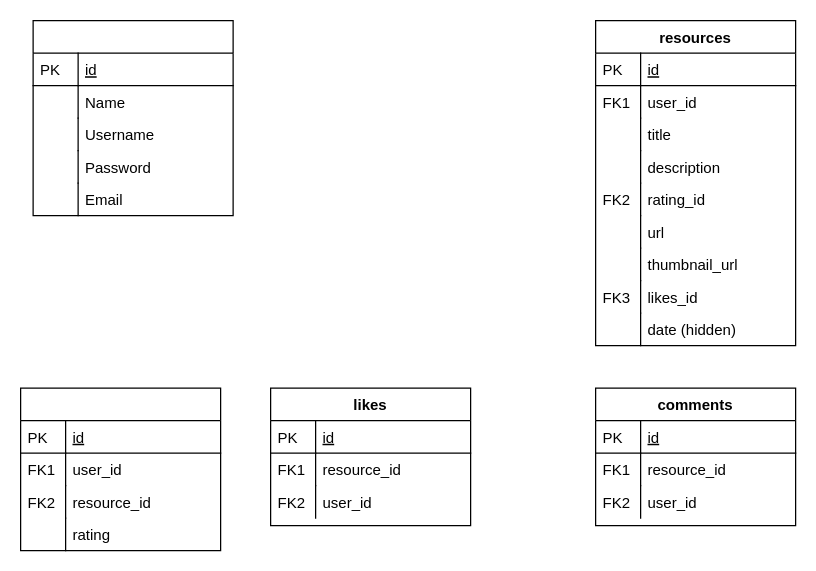
This 816x571 diagram has some shape labels left out. Each missing label, with the box of its shape:
ratings: (19, 387, 221, 551)
users: (32, 19, 233, 216)
